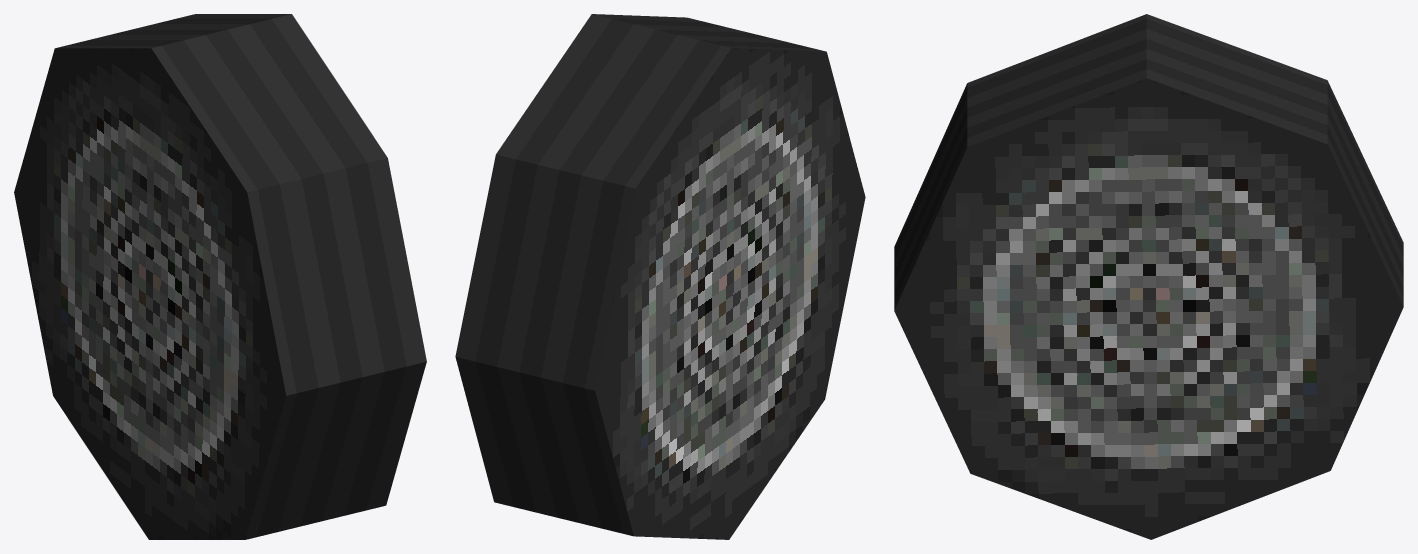
Rendered from Car_wheel.glb.
The picture shows the model from 3 angles, left to right: view 1: azimuth 30°, elevation 25°; view 2: azimuth 150°, elevation 25°; view 3: azimuth 270°, elevation 25°; orthographic projection. The views are drawn at different scales.
Visible parts, largest first — view 1: wheel; view 2: wheel; view 3: wheel.
Boxes of the visible parts, x1,y1,x2,y2 form: wheel: (14, 14, 426, 539); wheel: (455, 14, 865, 539); wheel: (894, 14, 1403, 539).
Size of the model in its own units: 0.2736 by 0.9172 by 0.9172.
1 material, 1 textured.
